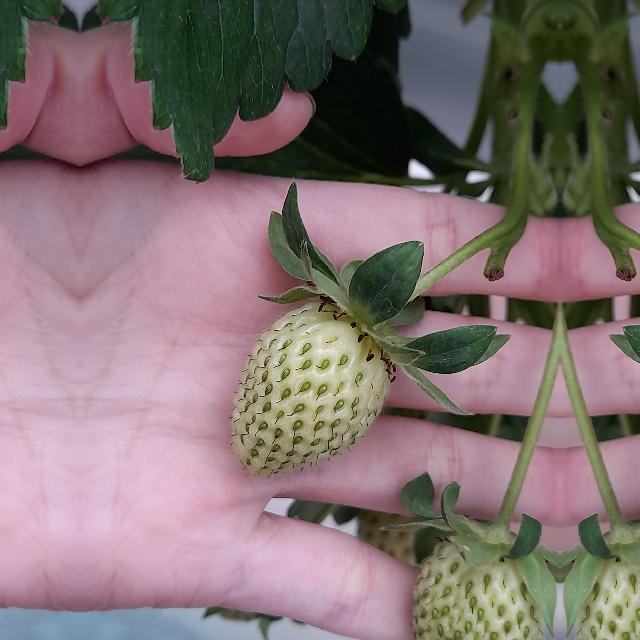Health_25: (231, 301, 389, 475), (414, 519, 558, 639), (562, 519, 640, 639)
